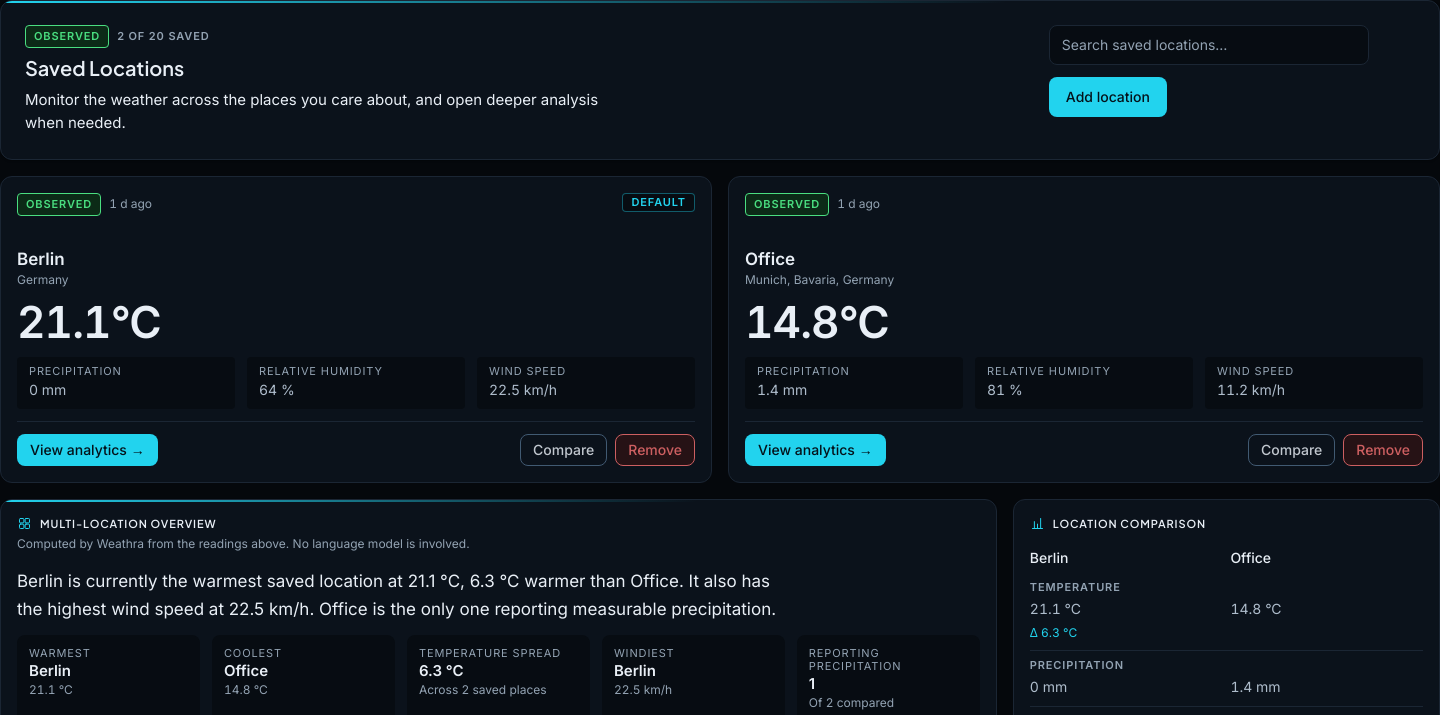
Test: Saved Locations › stays accessible while it is asking which place was meant
Click the button "Add location".
click(1108, 97)  # box [1049,77,1167,117]
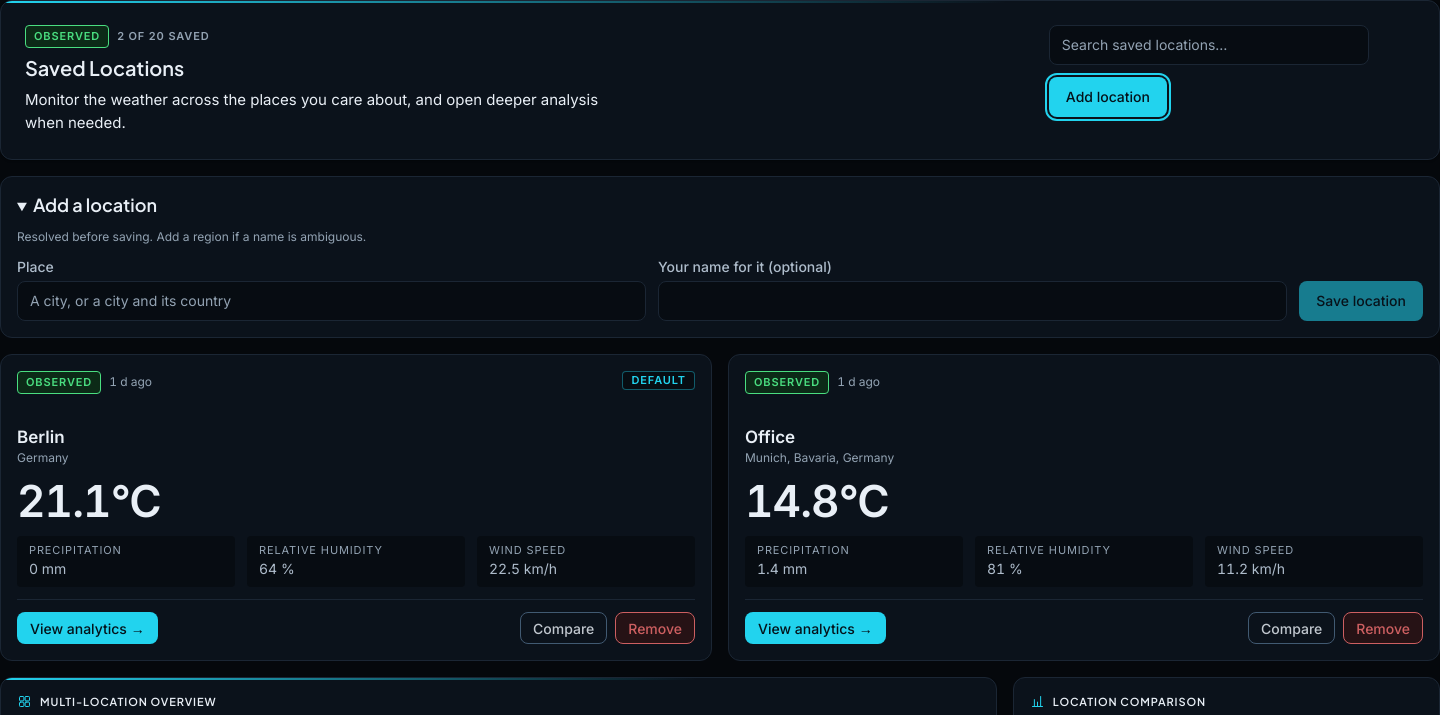
Type "Springfield" into the field labelled "Place".
click(332, 301); type("Springfield")  # box [17,281,646,321]
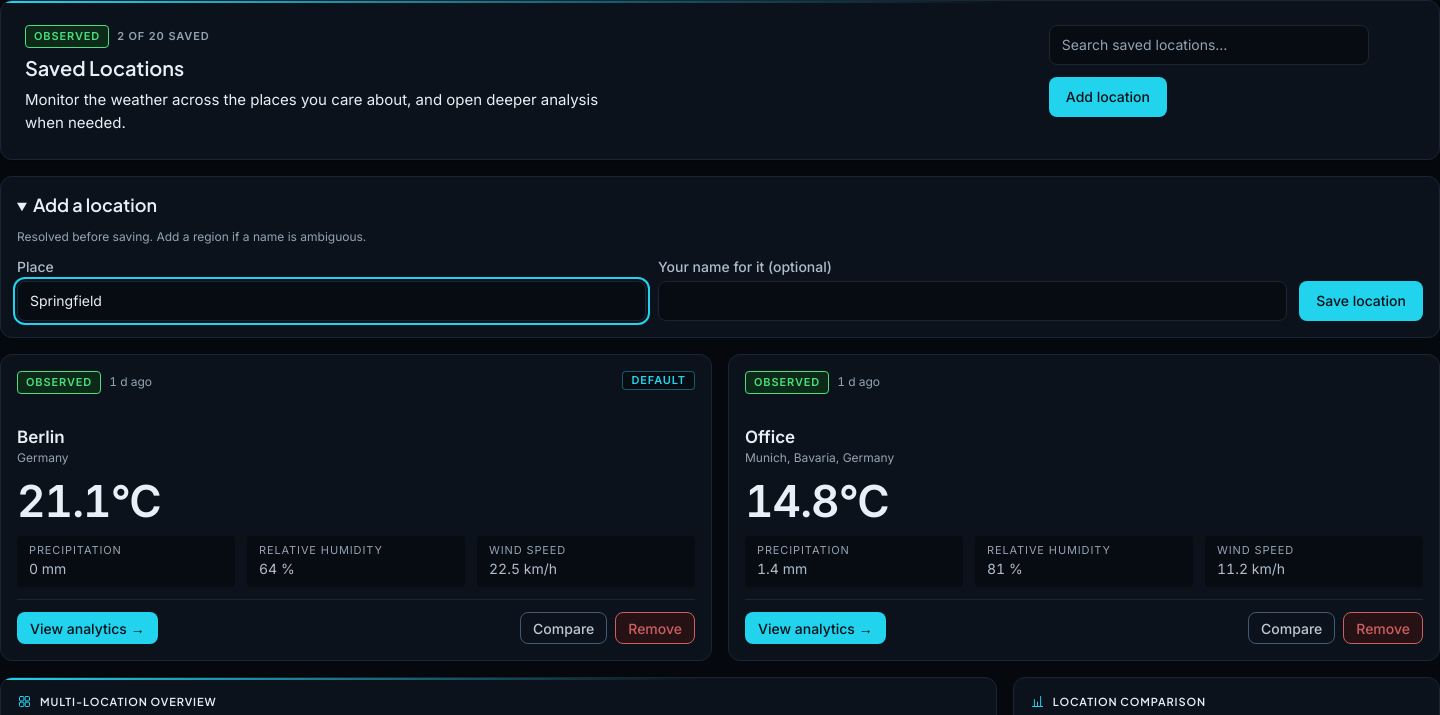
Click the button "Save location".
click(1361, 301)  # box [1299,281,1423,321]
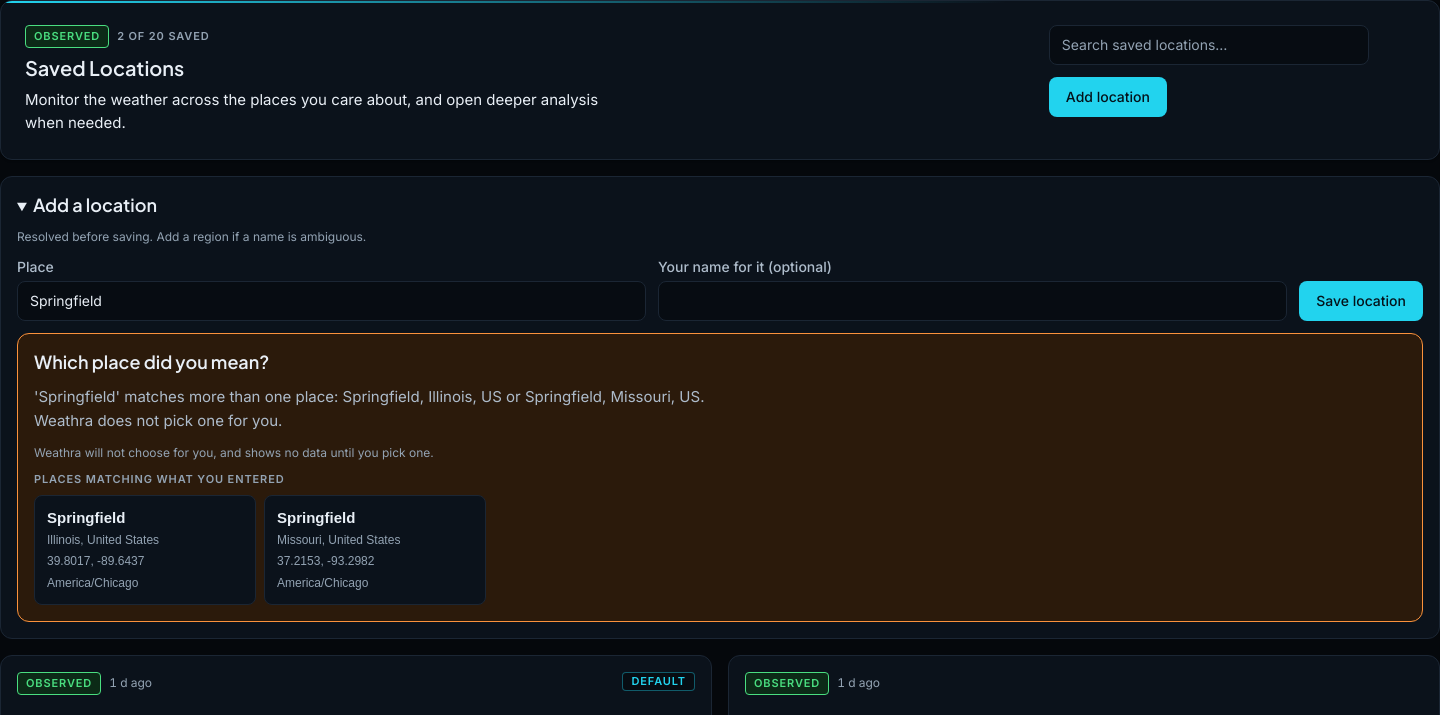
Expected: the heading "Add a location" is shown, [33,193,157,216]
Expected: the element "Places matching what you entered" is shown, [34,472,486,605]
Expected: the heading "Which place did you mean?" is shown, [34,350,269,373]
